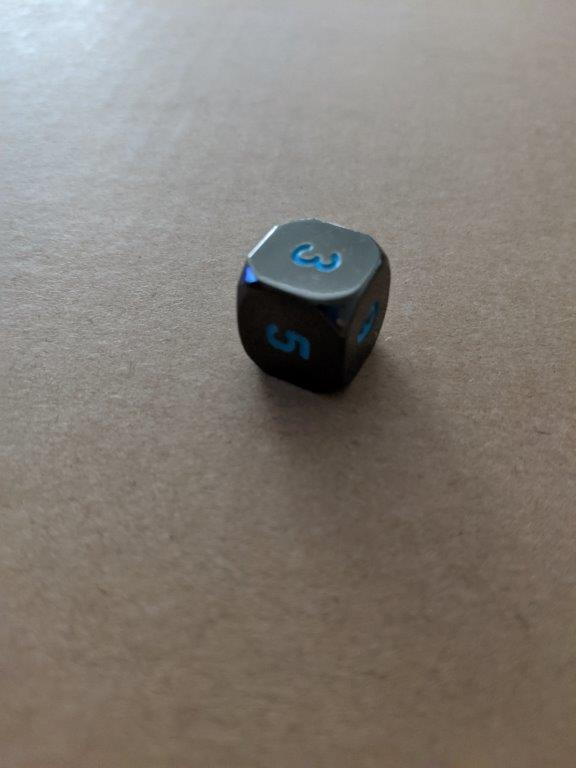d6-3: (235, 217, 392, 396)
